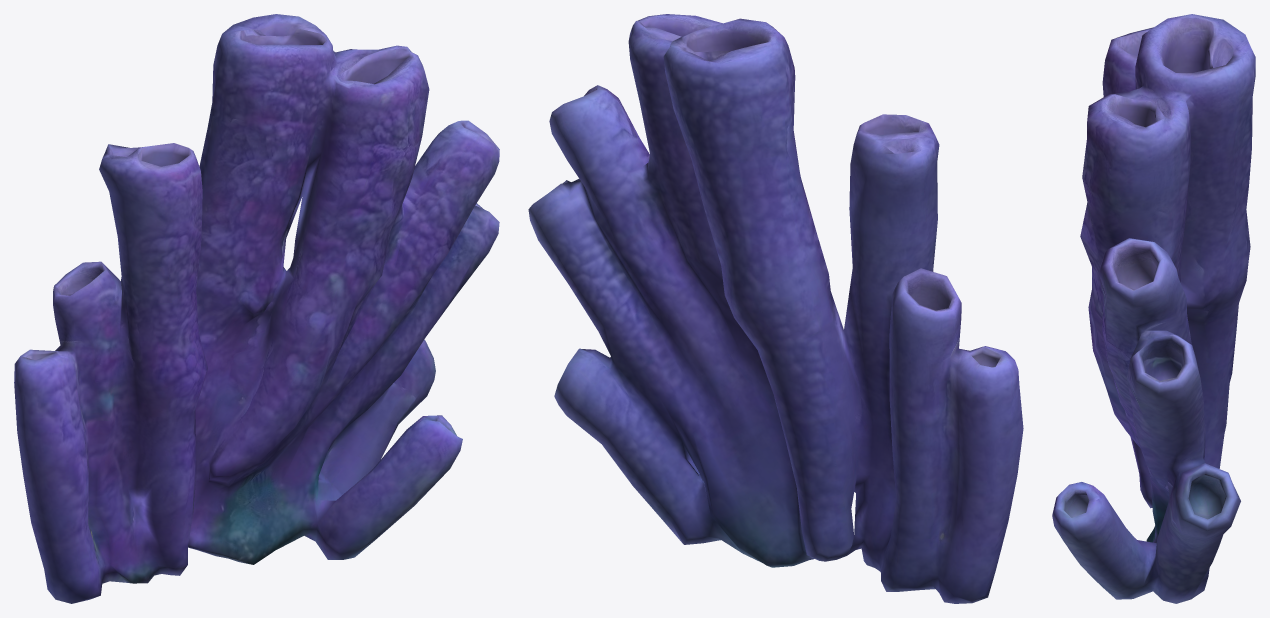
File: eponge-tube.glb
3 views of the same model, side by side, from view 1: azimuth 30°, elevation 25°; view 2: azimuth 150°, elevation 25°; view 3: azimuth 270°, elevation 25° (orthographic). The views are drawn at different scales.
Visible parts, largest first — view 1: tripo_node_d486b4fb-d825-4bc0-8ec7-78d52d4982ae; view 2: tripo_node_d486b4fb-d825-4bc0-8ec7-78d52d4982ae; view 3: tripo_node_d486b4fb-d825-4bc0-8ec7-78d52d4982ae.
Part boxes in pixels (x1=…): tripo_node_d486b4fb-d825-4bc0-8ec7-78d52d4982ae: x1=14, y1=14, x2=499, y2=603; tripo_node_d486b4fb-d825-4bc0-8ec7-78d52d4982ae: x1=528, y1=14, x2=1023, y2=603; tripo_node_d486b4fb-d825-4bc0-8ec7-78d52d4982ae: x1=1052, y1=14, x2=1255, y2=603.
Bounding box in the file's own units: 0.9373 × 0.9722 × 0.3296.
1 material, 1 textured.
